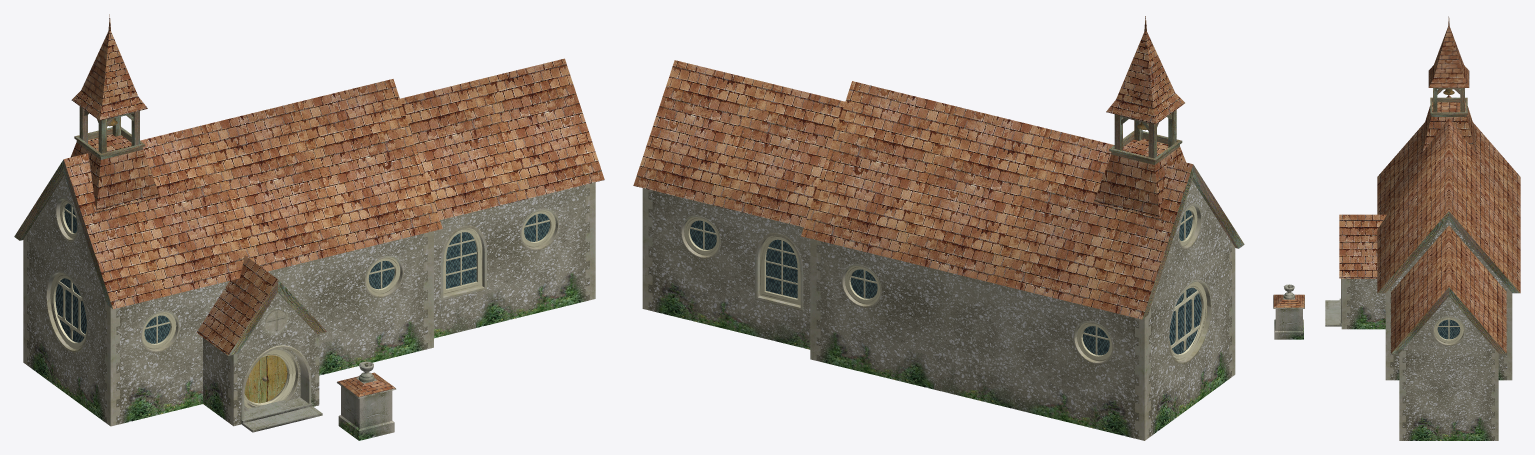
Rendered from Church.obj.
3 views of the same model, side by side, from view 1: azimuth 30°, elevation 25°; view 2: azimuth 150°, elevation 25°; view 3: azimuth 270°, elevation 25° (orthographic). The views are drawn at different scales.
Parts seen in each view (by area): view 1: Church; view 2: Church; view 3: Church.
Boxes of the visible parts, x1,y1,x2,y2 form: Church: (14,14,604,440); Church: (633,16,1244,440); Church: (1273,16,1520,440).
Size of the model in its own units: 760 by 536 by 449.
